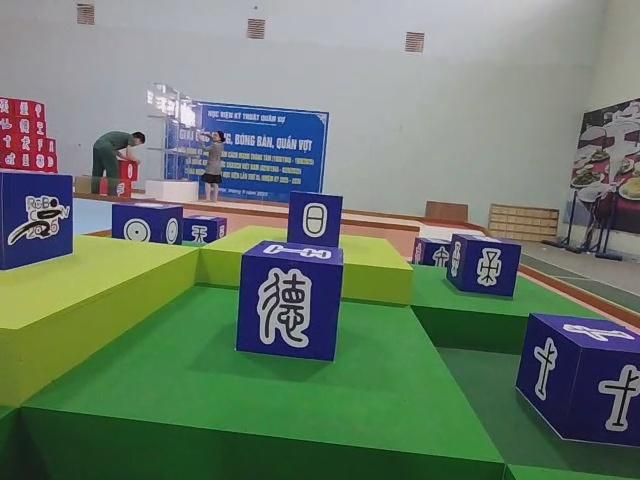R1 Blue: (0, 170, 72, 274)
R2 Fake Blue: (237, 243, 345, 366), (285, 191, 341, 249), (412, 239, 452, 268)
R2 Real Blue: (515, 316, 638, 453), (448, 234, 522, 300), (111, 202, 184, 247), (183, 213, 228, 243)
